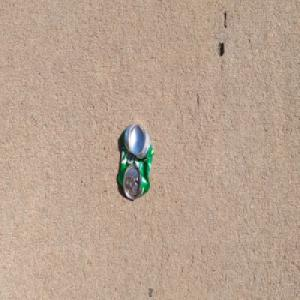SodaCan: (117, 122, 154, 201)
